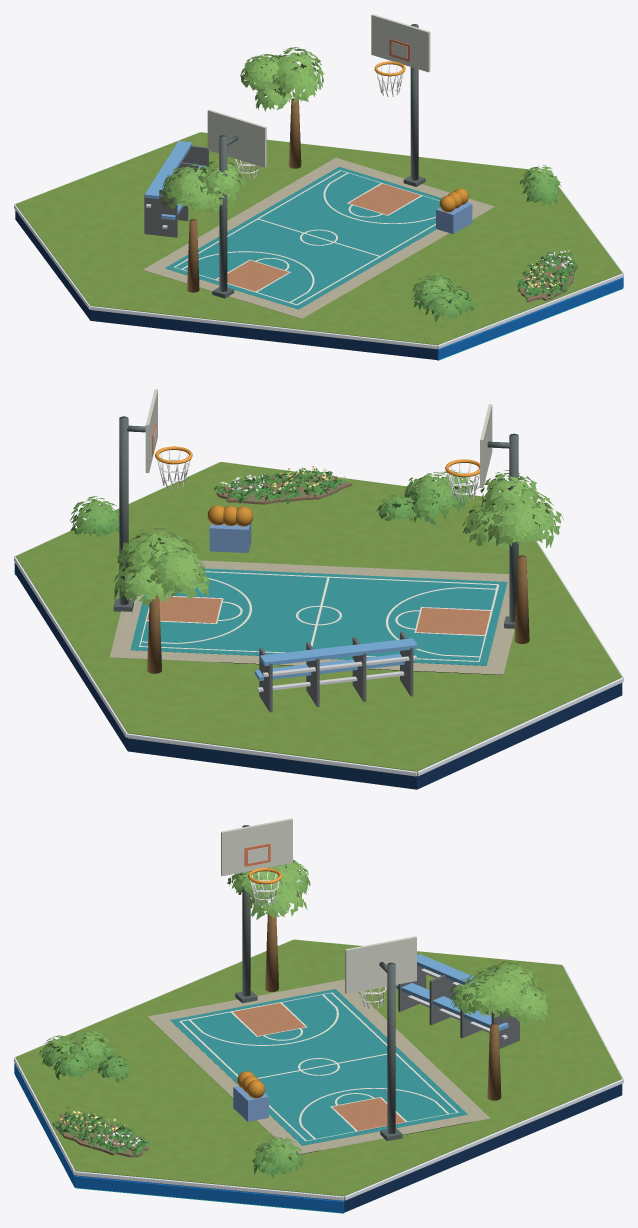
The model's file is field_cm30_01.glb.
3 views of the same model, one above another, from view 1: azimuth 30°, elevation 25°; view 2: azimuth 150°, elevation 25°; view 3: azimuth 270°, elevation 25° (orthographic). The views are drawn at different scales.
Visible parts, largest first — view 1: field_cm30_01-refined; view 2: field_cm30_01-refined; view 3: field_cm30_01-refined.
Boxes of the visible parts, <box> form: field_cm30_01-refined: <box>14,14,623,360</box>; field_cm30_01-refined: <box>14,389,623,789</box>; field_cm30_01-refined: <box>14,818,623,1213</box>.
Size of the model in its own units: 7.87 by 2.86 by 7.87.
Materials: 1 (1 with a texture image).
